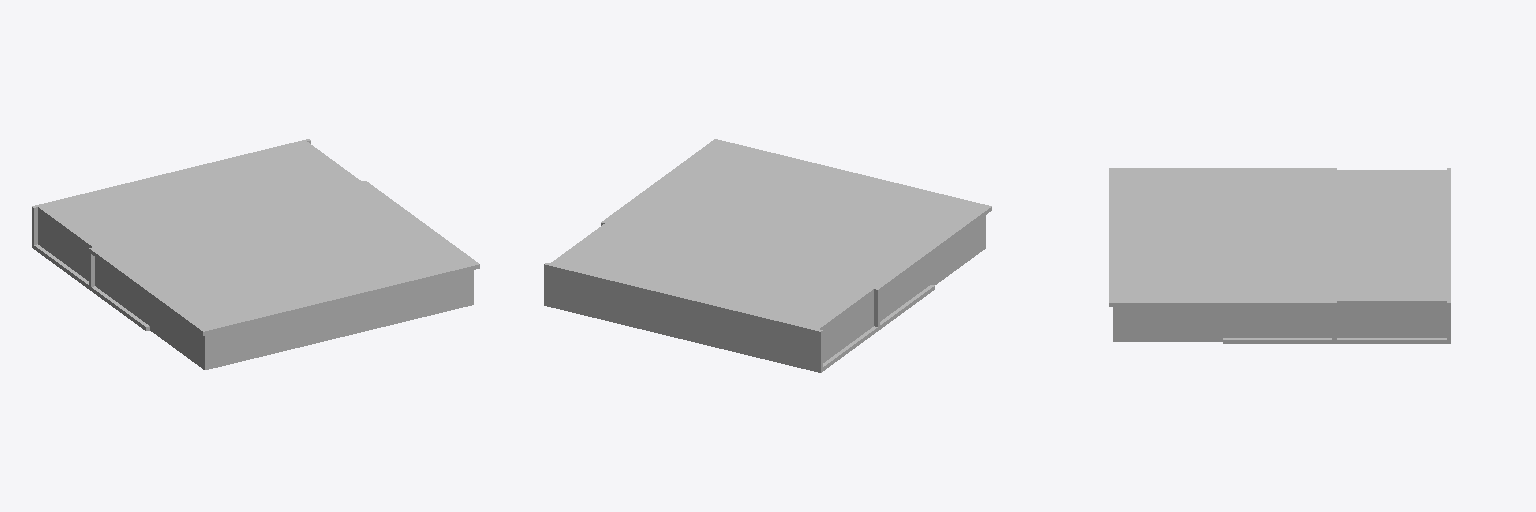
File: Book - Less Vertices.obj
The picture shows the model from 3 angles: view 1: azimuth 30°, elevation 25°; view 2: azimuth 150°, elevation 25°; view 3: azimuth 270°, elevation 25°; orthographic projection.
Visible parts, largest first — view 1: LeftSide_Cube.003, RightSide_Cube.002; view 2: RightSide_Cube.002, LeftSide_Cube.003; view 3: RightSide_Cube.002, LeftSide_Cube.003.
Part boxes in pixels (x1,y1,x2,y2): LeftSide_Cube.003: (89, 181, 479, 369); RightSide_Cube.002: (32, 139, 414, 330); RightSide_Cube.002: (544, 183, 934, 372); LeftSide_Cube.003: (601, 139, 991, 330); RightSide_Cube.002: (1223, 168, 1450, 343); LeftSide_Cube.003: (1109, 168, 1336, 343).
Size of the model in its own units: 0.7 by 0.1 by 0.7502.